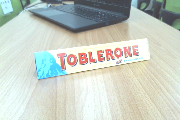Chocolate: (28, 35, 159, 81)
